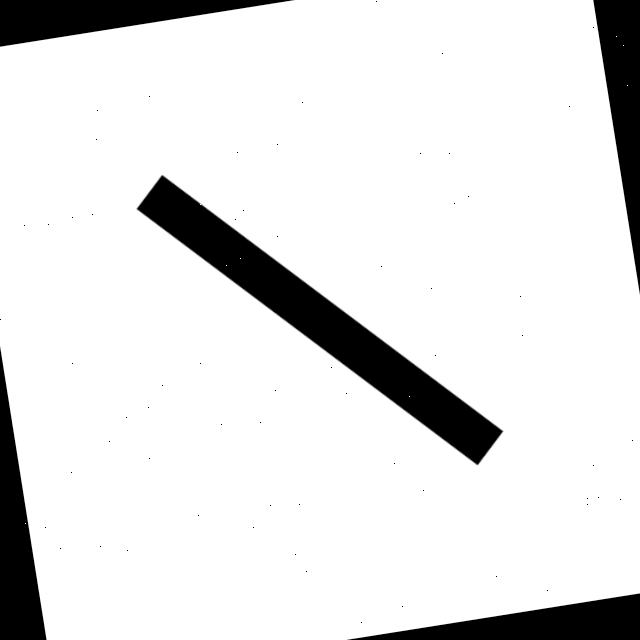line: (137, 175, 504, 465)
